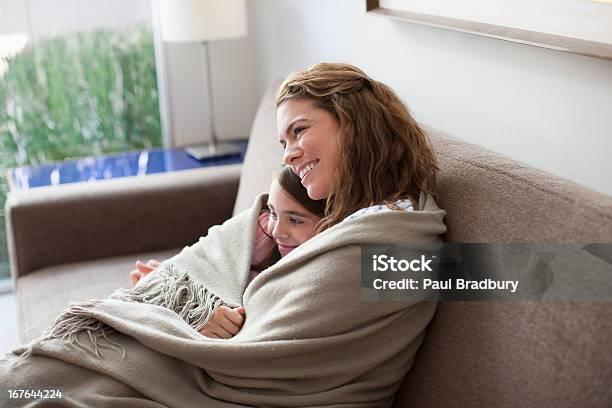blanket: (0, 187, 447, 408)
